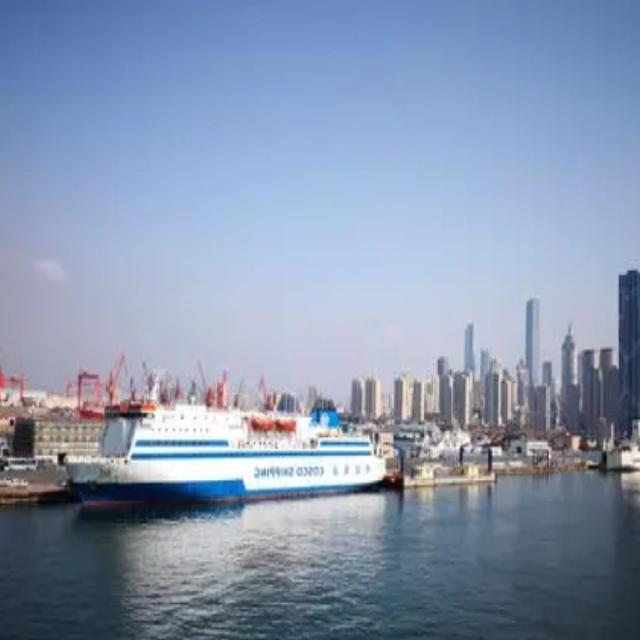cargoship: (70, 380, 396, 507)
